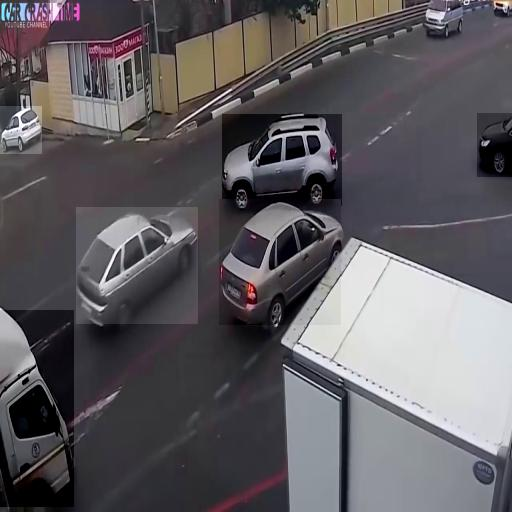小汽车: (219, 200, 341, 326), (0, 310, 74, 507), (76, 207, 198, 324), (222, 114, 342, 206), (477, 113, 512, 177), (0, 106, 42, 154), (423, 0, 465, 44)
